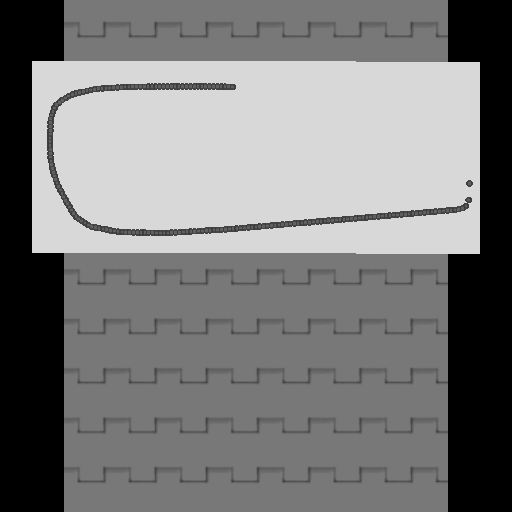Defect: (233, 77, 461, 133)
